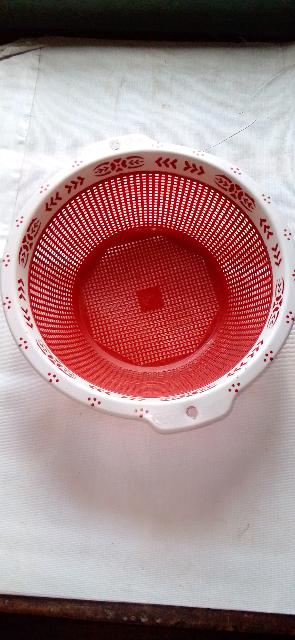hardplastic: (5, 145, 291, 428)
